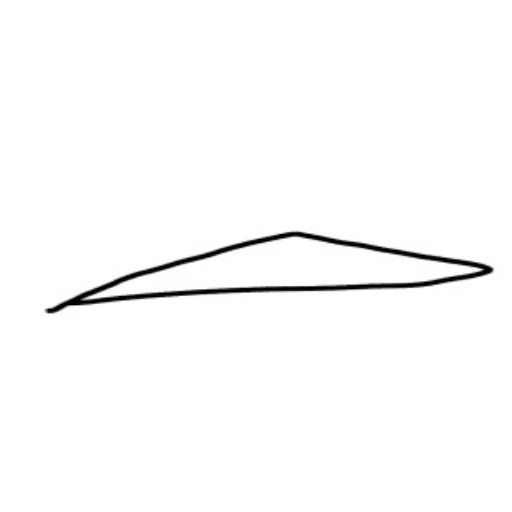triangle: (38, 232, 495, 329)
